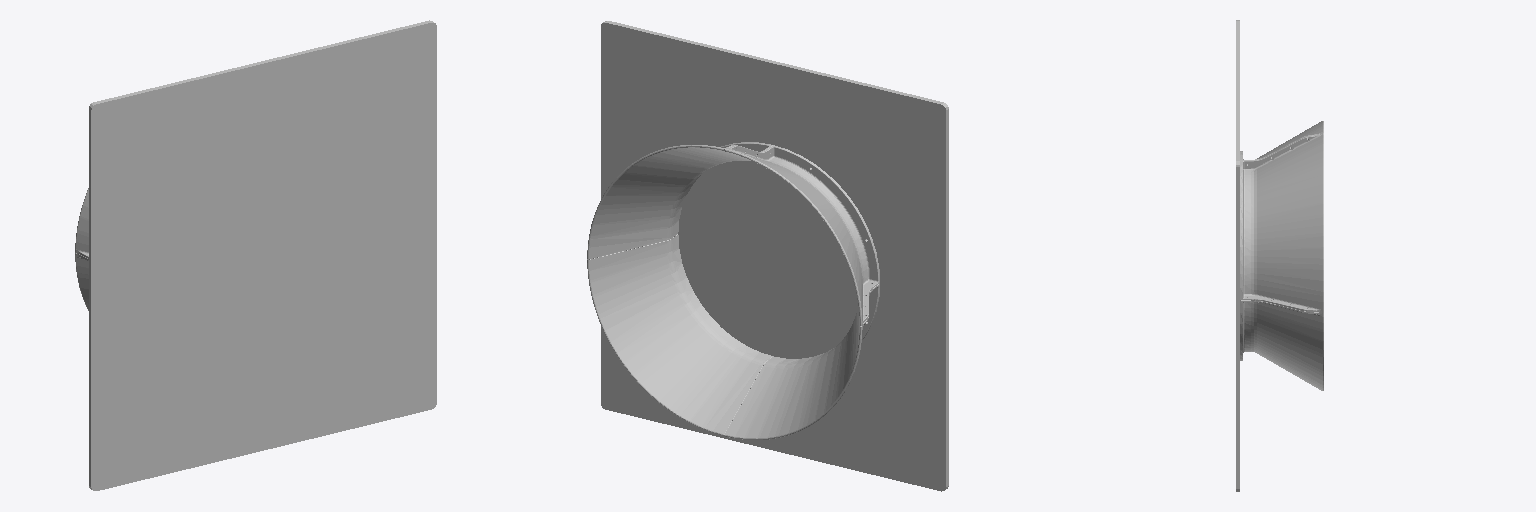
robot.urdf — stage:
<?xml version="1.0" encoding="utf-8"?>
<!-- =================================================================================== -->
<!-- |    This document was autogenerated by xacro from [local-path]/ws/fingers/workspace/src/catkin/robots/robot_properties/robot_properties_fingers/xacro/stage.urdf.xacro | -->
<!-- |    EDITING THIS FILE BY HAND IS NOT RECOMMENDED                                 | -->
<!-- =================================================================================== -->
<robot name="stage">
  <material name="stage_material">
    <color rgba="0.8 0.8 0.8 1.0"/>
  </material>
  <!-- add the "stage" -->
  <link name="stage_link">
    <visual>
      <origin rpy="0 0 0" xyz="0 0 0"/>
      <geometry>
        <mesh filename="package://robot_properties_fingers/meshes/stl/trifinger_stage.obj" scale="1 1 1"/>
      </geometry>
      <material name="stage_material"/>
    </visual>

    <collision>
      <origin rpy="0 0 0" xyz="0 0 0"/>
      <geometry>
        <mesh filename="package://robot_properties_fingers/meshes/convex_Stage_simplified/convex_0.obj" scale="1 1 1"/>
      </geometry>
    </collision>
    <collision>
      <origin rpy="0 0 0" xyz="0 0 0"/>
      <geometry>
        <mesh filename="package://robot_properties_fingers/meshes/convex_Stage_simplified/convex_1.obj" scale="1 1 1"/>
      </geometry>
    </collision>
    <collision>
      <origin rpy="0 0 0" xyz="0 0 0"/>
      <geometry>
        <mesh filename="package://robot_properties_fingers/meshes/convex_Stage_simplified/convex_2.obj" scale="1 1 1"/>
      </geometry>
    </collision>
    <collision>
      <origin rpy="0 0 0" xyz="0 0 0"/>
      <geometry>
        <mesh filename="package://robot_properties_fingers/meshes/convex_Stage_simplified/convex_3.obj" scale="1 1 1"/>
      </geometry>
    </collision>
    <collision>
      <origin rpy="0 0 0" xyz="0 0 0"/>
      <geometry>
        <mesh filename="package://robot_properties_fingers/meshes/convex_Stage_simplified/convex_4.obj" scale="1 1 1"/>
      </geometry>
    </collision>
    <collision>
      <origin rpy="0 0 0" xyz="0 0 0"/>
      <geometry>
        <mesh filename="package://robot_properties_fingers/meshes/convex_Stage_simplified/convex_5.obj" scale="1 1 1"/>
      </geometry>
    </collision>
    <collision>
      <origin rpy="0 0 0" xyz="0 0 0"/>
      <geometry>
        <mesh filename="package://robot_properties_fingers/meshes/convex_Stage_simplified/convex_6.obj" scale="1 1 1"/>
      </geometry>
    </collision>
    <collision>
      <origin rpy="0 0 0" xyz="0 0 0"/>
      <geometry>
        <mesh filename="package://robot_properties_fingers/meshes/convex_Stage_simplified/convex_7.obj" scale="1 1 1"/>
      </geometry>
    </collision>
    <collision>
      <origin rpy="0 0 0" xyz="0 0 0"/>
      <geometry>
        <mesh filename="package://robot_properties_fingers/meshes/convex_Stage_simplified/convex_8.obj" scale="1 1 1"/>
      </geometry>
    </collision>
    <collision>
      <origin rpy="0 0 0" xyz="0 0 0"/>
      <geometry>
        <mesh filename="package://robot_properties_fingers/meshes/convex_Stage_simplified/convex_9.obj" scale="1 1 1"/>
      </geometry>
    </collision>
    <collision>
      <origin rpy="0 0 0" xyz="0 0 0"/>
      <geometry>
        <mesh filename="package://robot_properties_fingers/meshes/convex_Stage_simplified/convex_10.obj" scale="1 1 1"/>
      </geometry>
    </collision>
    <collision>
      <origin rpy="0 0 0" xyz="0 0 0"/>
      <geometry>
        <mesh filename="package://robot_properties_fingers/meshes/convex_Stage_simplified/convex_11.obj" scale="1 1 1"/>
      </geometry>
    </collision>
    <collision>
      <origin rpy="0 0 0" xyz="0 0 0"/>
      <geometry>
        <mesh filename="package://robot_properties_fingers/meshes/convex_Stage_simplified/convex_12.obj" scale="1 1 1"/>
      </geometry>
    </collision>
    <collision>
      <origin rpy="0 0 0" xyz="0 0 0"/>
      <geometry>
        <mesh filename="package://robot_properties_fingers/meshes/convex_Stage_simplified/convex_13.obj" scale="1 1 1"/>
      </geometry>
    </collision>
    <collision>
      <origin rpy="0 0 0" xyz="0 0 0"/>
      <geometry>
        <mesh filename="package://robot_properties_fingers/meshes/convex_Stage_simplified/convex_14.obj" scale="1 1 1"/>
      </geometry>
    </collision>
    <collision>
      <origin rpy="0 0 0" xyz="0 0 0"/>
      <geometry>
        <mesh filename="package://robot_properties_fingers/meshes/convex_Stage_simplified/convex_15.obj" scale="1 1 1"/>
      </geometry>
    </collision>
    <collision>
      <origin rpy="0 0 0" xyz="0 0 0"/>
      <geometry>
        <mesh filename="package://robot_properties_fingers/meshes/convex_Stage_simplified/convex_16.obj" scale="1 1 1"/>
      </geometry>
    </collision>
    <collision>
      <origin rpy="0 0 0" xyz="0 0 0"/>
      <geometry>
        <mesh filename="package://robot_properties_fingers/meshes/convex_Stage_simplified/convex_17.obj" scale="1 1 1"/>
      </geometry>
    </collision>
    <collision>
      <origin rpy="0 0 0" xyz="0 0 0"/>
      <geometry>
        <mesh filename="package://robot_properties_fingers/meshes/convex_Stage_simplified/convex_18.obj" scale="1 1 1"/>
      </geometry>
    </collision>
    <collision>
      <origin rpy="0 0 0" xyz="0 0 0"/>
      <geometry>
        <mesh filename="package://robot_properties_fingers/meshes/convex_Stage_simplified/convex_19.obj" scale="1 1 1"/>
      </geometry>
    </collision>
    <collision>
      <origin rpy="0 0 0" xyz="0 0 0"/>
      <geometry>
        <mesh filename="package://robot_properties_fingers/meshes/convex_Stage_simplified/convex_20.obj" scale="1 1 1"/>
      </geometry>
    </collision>
    <collision>
      <origin rpy="0 0 0" xyz="0 0 0"/>
      <geometry>
        <mesh filename="package://robot_properties_fingers/meshes/convex_Stage_simplified/convex_21.obj" scale="1 1 1"/>
      </geometry>
    </collision>
    <collision>
      <origin rpy="0 0 0" xyz="0 0 0"/>
      <geometry>
        <mesh filename="package://robot_properties_fingers/meshes/convex_Stage_simplified/convex_22.obj" scale="1 1 1"/>
      </geometry>
    </collision>
    <collision>
      <origin rpy="0 0 0" xyz="0 0 0"/>
      <geometry>
        <mesh filename="package://robot_properties_fingers/meshes/convex_Stage_simplified/convex_23.obj" scale="1 1 1"/>
      </geometry>
    </collision>
    <collision>
      <origin rpy="0 0 0" xyz="0 0 0"/>
      <geometry>
        <mesh filename="package://robot_properties_fingers/meshes/convex_Stage_simplified/convex_24.obj" scale="1 1 1"/>
      </geometry>
    </collision>
    <collision>
      <origin rpy="0 0 0" xyz="0 0 0"/>
      <geometry>
        <mesh filename="package://robot_properties_fingers/meshes/convex_Stage_simplified/convex_25.obj" scale="1 1 1"/>
      </geometry>
    </collision>
    <collision>
      <origin rpy="0 0 0" xyz="0 0 0"/>
      <geometry>
        <mesh filename="package://robot_properties_fingers/meshes/convex_Stage_simplified/convex_26.obj" scale="1 1 1"/>
      </geometry>
    </collision>
    <collision>
      <origin rpy="0 0 0" xyz="0 0 0"/>
      <geometry>
        <mesh filename="package://robot_properties_fingers/meshes/convex_Stage_simplified/convex_27.obj" scale="1 1 1"/>
      </geometry>
    </collision>
    <collision>
      <origin rpy="0 0 0" xyz="0 0 0"/>
      <geometry>
        <mesh filename="package://robot_properties_fingers/meshes/convex_Stage_simplified/convex_28.obj" scale="1 1 1"/>
      </geometry>
    </collision>
    <collision>
      <origin rpy="0 0 0" xyz="0 0 0"/>
      <geometry>
        <mesh filename="package://robot_properties_fingers/meshes/convex_Stage_simplified/convex_29.obj" scale="1 1 1"/>
      </geometry>
    </collision>
    <collision>
      <origin rpy="0 0 0" xyz="0 0 0"/>
      <geometry>
        <mesh filename="package://robot_properties_fingers/meshes/convex_Stage_simplified/convex_30.obj" scale="1 1 1"/>
      </geometry>
    </collision>
    <collision>
      <origin rpy="0 0 0" xyz="0 0 0"/>
      <geometry>
        <mesh filename="package://robot_properties_fingers/meshes/convex_Stage_simplified/convex_31.obj" scale="1 1 1"/>
      </geometry>
    </collision>
    <collision>
      <origin rpy="0 0 0" xyz="0 0 0"/>
      <geometry>
        <mesh filename="package://robot_properties_fingers/meshes/convex_Stage_simplified/convex_32.obj" scale="1 1 1"/>
      </geometry>
    </collision>
    <collision>
      <origin rpy="0 0 0" xyz="0 0 0"/>
      <geometry>
        <mesh filename="package://robot_properties_fingers/meshes/convex_Stage_simplified/convex_33.obj" scale="1 1 1"/>
      </geometry>
    </collision>
    <collision>
      <origin rpy="0 0 0" xyz="0 0 0"/>
      <geometry>
        <mesh filename="package://robot_properties_fingers/meshes/convex_Stage_simplified/convex_34.obj" scale="1 1 1"/>
      </geometry>
    </collision>
    <collision>
      <origin rpy="0 0 0" xyz="0 0 0"/>
      <geometry>
        <mesh filename="package://robot_properties_fingers/meshes/convex_Stage_simplified/convex_35.obj" scale="1 1 1"/>
      </geometry>
    </collision>
    <inertial>
      <origin rpy="0 0 0" xyz="0 0 0"/>
      <mass value="1"/>
      <inertia ixx="0.00770833333333" ixy="0" ixz="0" iyy="0.00770833333333" iyz="0" izz="0.015"/>
    </inertial>
  </link>
</robot>

--- What the picture shows (computed from the rendered views, not written in the file) ---
The picture shows the robot from 3 angles, left to right: view 1: azimuth 30°, elevation 25°; view 2: azimuth 150°, elevation 25°; view 3: azimuth 270°, elevation 25°; orthographic projection.
Model stage with 1 links and 0 joints (none), rooted at stage_link, posed every joint at zero.
Links seen in each view (by area): view 1: stage_link; view 2: stage_link; view 3: stage_link.
Boxes of the visible links, <box> form: stage_link: <box>75,20,436,490</box>; stage_link: <box>587,21,948,491</box>; stage_link: <box>1236,20,1323,491</box>.
Size in the robot's own frame: 0.71 by 0.185 by 0.76 metres.
Meshes: 1 distinct files referenced, 1 mesh visuals loaded (1 OBJ).
